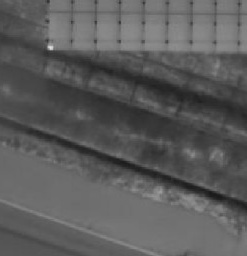solar: (44, 9, 75, 51), (68, 9, 99, 51), (92, 9, 123, 51), (116, 9, 147, 51), (139, 9, 170, 51), (163, 10, 194, 52), (188, 10, 219, 52), (211, 10, 242, 52)
